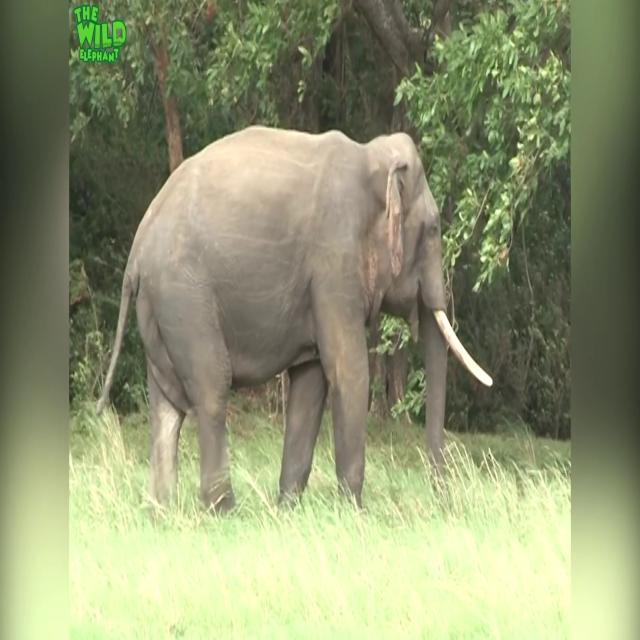Elephant: (96, 122, 493, 520)
